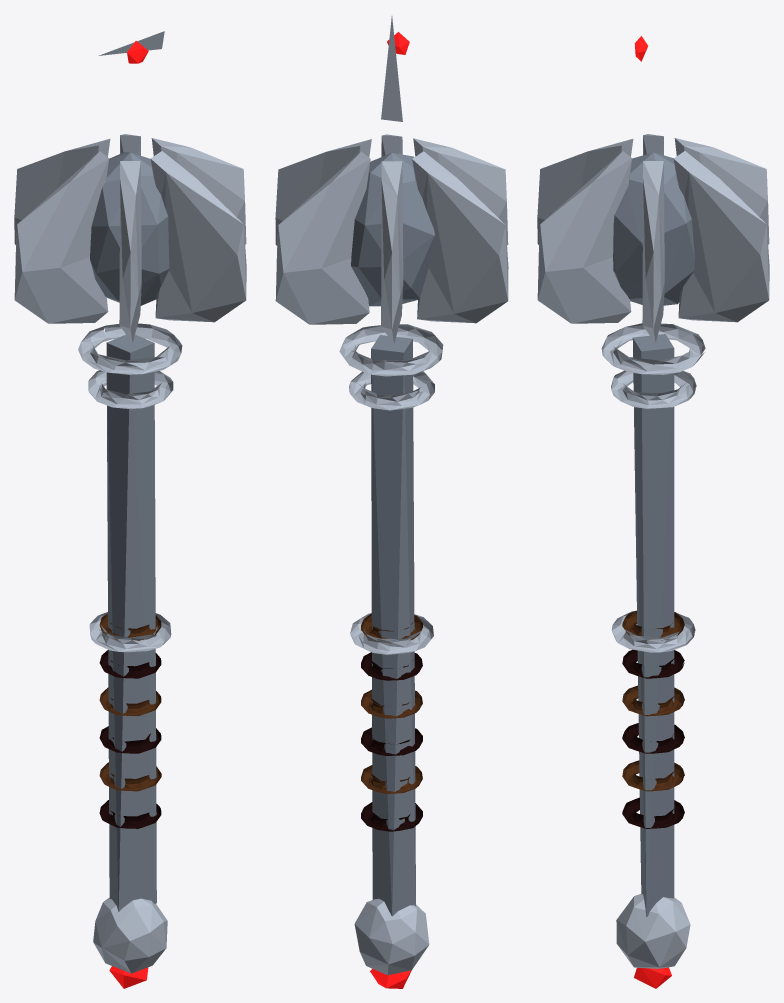
The model's file is wand_1.glb.
The picture shows the model from 3 angles, left to right: view 1: azimuth 30°, elevation 25°; view 2: azimuth 150°, elevation 25°; view 3: azimuth 270°, elevation 25°; orthographic projection.
Visible parts, largest first — view 1: part_01, part_15, part_17, part_13, part_11, part_16, part_18, part_10, part_14, part_09, part_08, part_02 (+4 smaller); view 2: part_01, part_17, part_19, part_13, part_11, part_18, part_14, part_16, part_10, part_09, part_08, part_20 (+6 smaller); view 3: part_01, part_19, part_15, part_13, part_11, part_14, part_16, part_18, part_10, part_09, part_08, part_02 (+6 smaller).
Boxes of the visible parts, x1,y1,x2,y2 form: part_01: (106, 334, 156, 911); part_15: (150, 151, 246, 322); part_17: (14, 151, 109, 323); part_13: (90, 152, 169, 305); part_11: (93, 897, 167, 973); part_16: (119, 161, 141, 342); part_18: (14, 139, 110, 244); part_10: (78, 323, 182, 374); part_14: (151, 138, 246, 244); part_09: (88, 370, 173, 409); part_08: (89, 612, 171, 652); part_02: (99, 800, 161, 828); part_01: (371, 335, 415, 916); part_17: (412, 151, 508, 323); part_19: (275, 151, 370, 324); part_13: (351, 153, 435, 306); part_11: (354, 898, 429, 975); part_18: (381, 161, 403, 343); part_14: (275, 139, 371, 245); part_16: (413, 138, 508, 245); part_10: (339, 324, 443, 376); part_09: (349, 371, 434, 410); part_08: (350, 613, 433, 654); part_20: (381, 16, 402, 121); part_01: (632, 334, 674, 916); part_19: (673, 151, 769, 322); part_15: (537, 151, 632, 323); part_13: (613, 152, 694, 305); part_11: (616, 894, 690, 968); part_14: (642, 161, 664, 342); part_16: (537, 139, 633, 244); part_18: (674, 138, 769, 244); part_10: (601, 323, 705, 374); part_09: (611, 370, 696, 408); part_08: (611, 610, 695, 652); part_02: (622, 797, 684, 828).
Size of the model in its own units: 0.1936 by 0.7756 by 0.1681.
